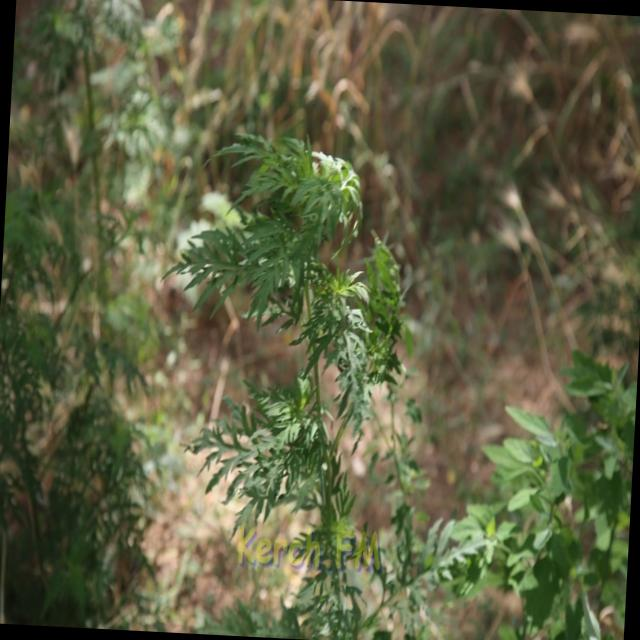ambrosia: (170, 112, 444, 625)
